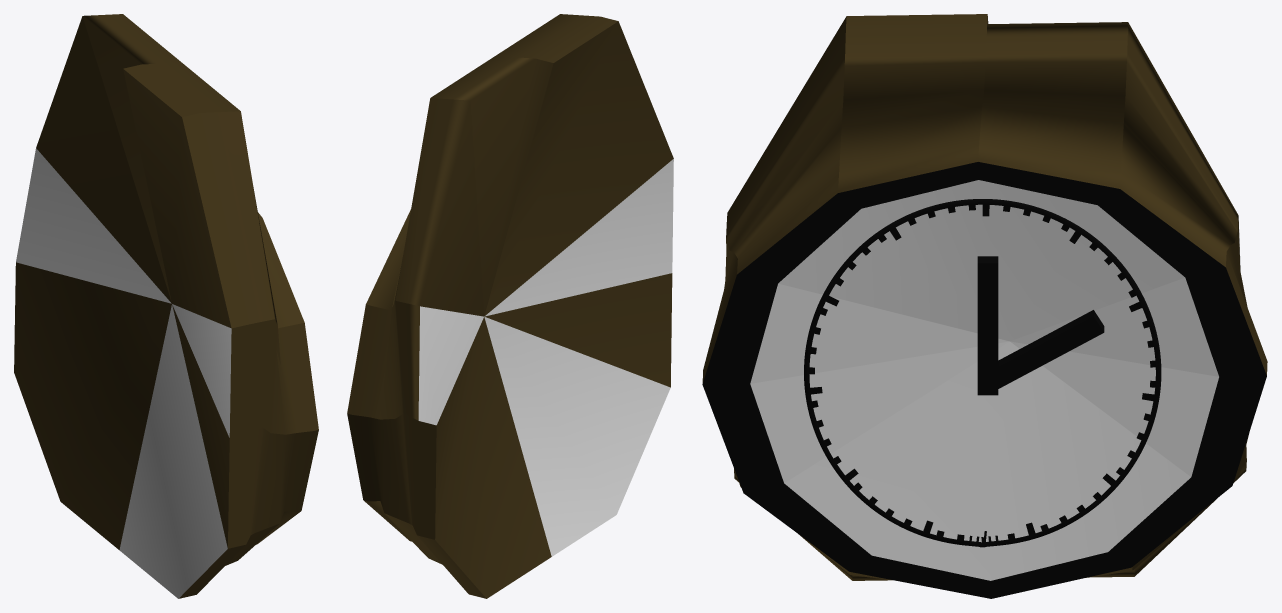
Rendered from clock.fbx.
The picture shows the model from 3 angles, left to right: view 1: azimuth 30°, elevation 25°; view 2: azimuth 150°, elevation 25°; view 3: azimuth 270°, elevation 25°; orthographic projection. The views are drawn at different scales.
Visible parts, largest first — view 1: pCube4; view 2: pCube4; view 3: pCube4.
Part boxes in pixels (x1,y1,x2,y2): pCube4: (14, 14, 318, 598); pCube4: (347, 14, 673, 598); pCube4: (702, 14, 1267, 598).
Size of the model in its own units: 204 by 1098 by 1001.
